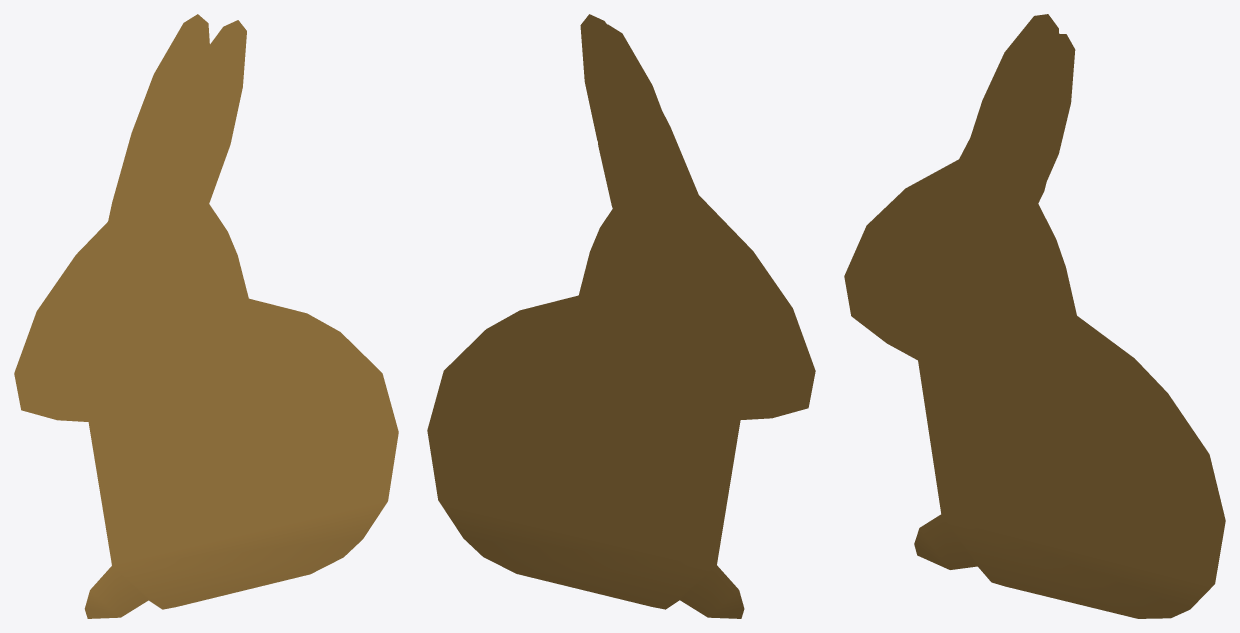
The model's file is rabbit_1.fbx.
3 renders of one model, left to right at view 1: azimuth 30°, elevation 25°; view 2: azimuth 150°, elevation 25°; view 3: azimuth 330°, elevation 25°, orthographic.
Parts seen in each view (by area): view 1: rabbit_1; view 2: rabbit_1; view 3: rabbit_1.
Part boxes in pixels (x1=…): rabbit_1: x1=14, y1=14, x2=398, y2=618; rabbit_1: x1=427, y1=14, x2=815, y2=618; rabbit_1: x1=844, y1=14, x2=1225, y2=618.
Size of the model in its own units: 1.52 by 2.18 by 0.0755.
